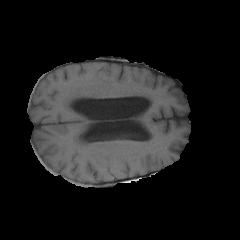glioma: (61, 76, 154, 105)
